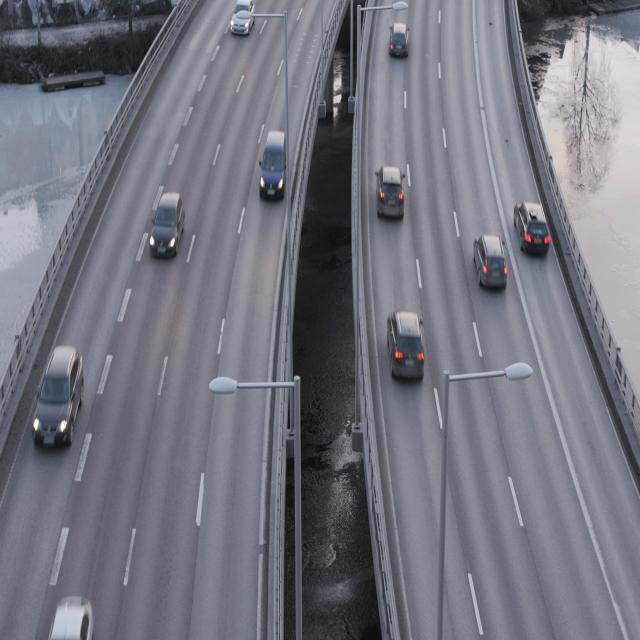vehicle: (32, 344, 83, 452), (387, 309, 425, 384), (148, 189, 184, 261), (513, 200, 550, 258), (474, 232, 508, 292), (48, 596, 94, 640), (259, 130, 287, 202), (376, 164, 404, 221), (230, 1, 256, 38), (389, 16, 409, 60)
